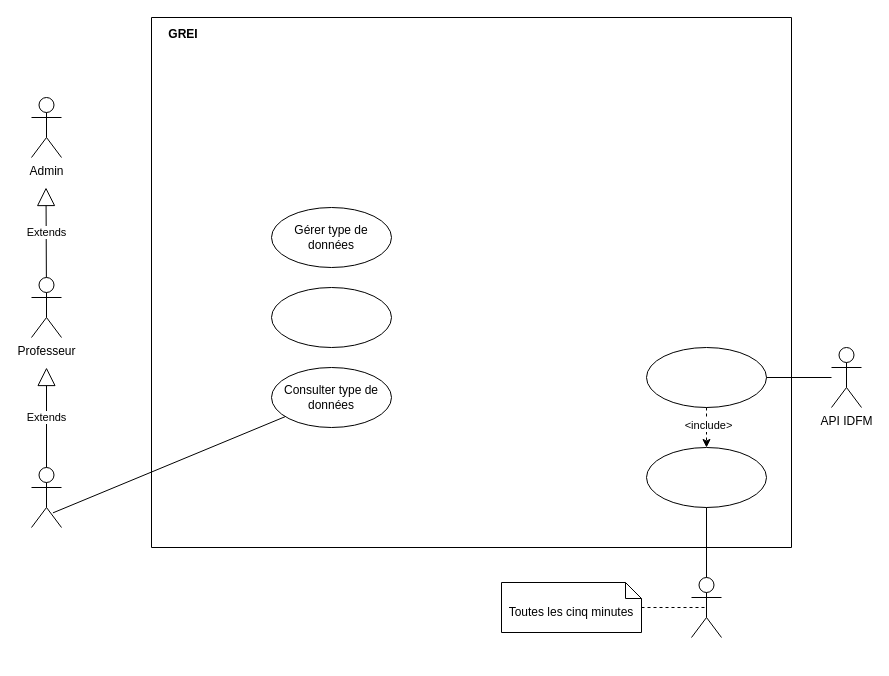
Image size: 889x676. Some labels were removed from this diagram. The centre of each missing label's shape, as x and y in pixels:
Etudiant: the point at 46,497
Mettre à jour données trafic: the point at 706,477
Timer: the point at 706,607
Transmettre données: the point at 706,377
